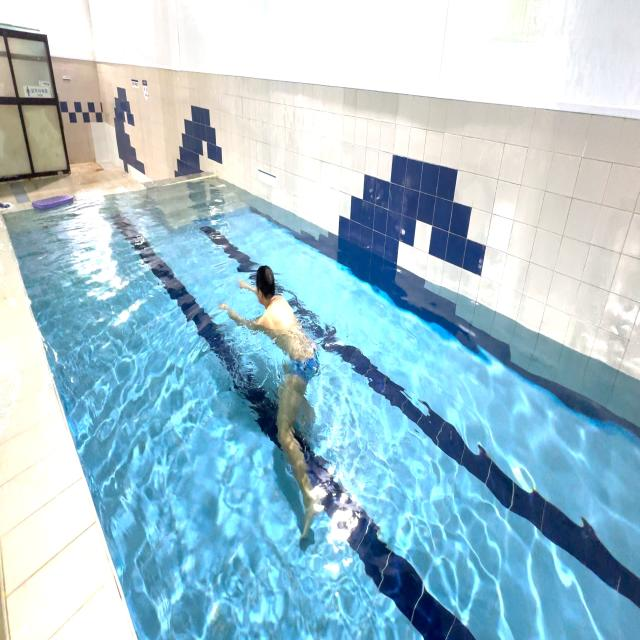Swimming: (216, 266, 328, 542)
